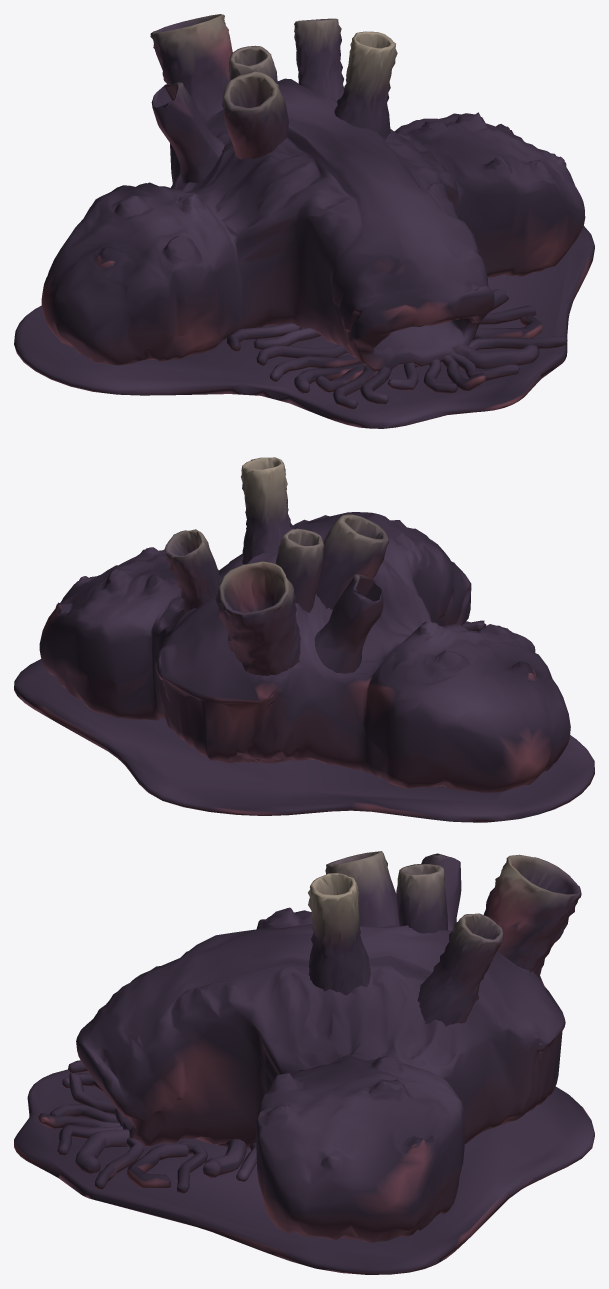
The model's file is evolution_chamber_oyvindtk.glb.
The picture shows the model from 3 angles, top to bottom: view 1: azimuth 30°, elevation 25°; view 2: azimuth 150°, elevation 25°; view 3: azimuth 270°, elevation 25°; orthographic projection. The views are drawn at different scales.
Parts seen in each view (by area): view 1: Zerg Evolution Chamber (Thingiverse); view 2: Zerg Evolution Chamber (Thingiverse); view 3: Zerg Evolution Chamber (Thingiverse).
Boxes of the visible parts, box(x1,y1,x2,y2) form: Zerg Evolution Chamber (Thingiverse): box(14, 14, 594, 428); Zerg Evolution Chamber (Thingiverse): box(14, 457, 594, 822); Zerg Evolution Chamber (Thingiverse): box(14, 851, 594, 1274).
Bounding box in the file's own units: 2.8 × 1.24 × 2.36.
